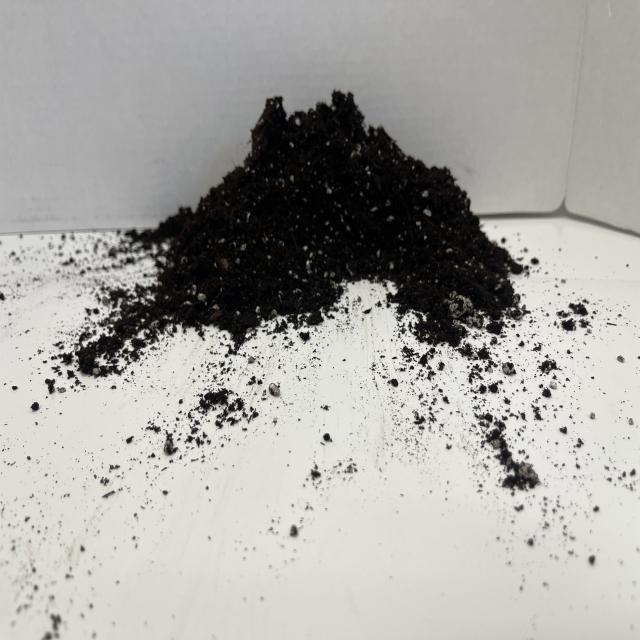soil: (71, 87, 527, 381)
